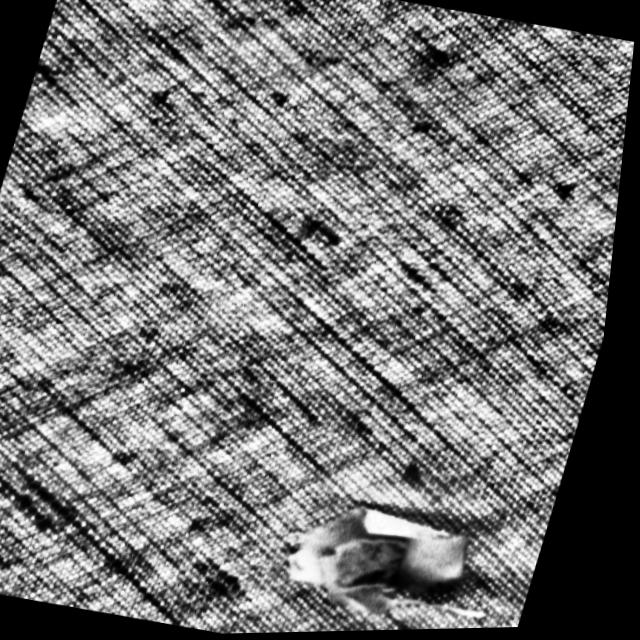Stitch: (281, 485, 532, 634)
